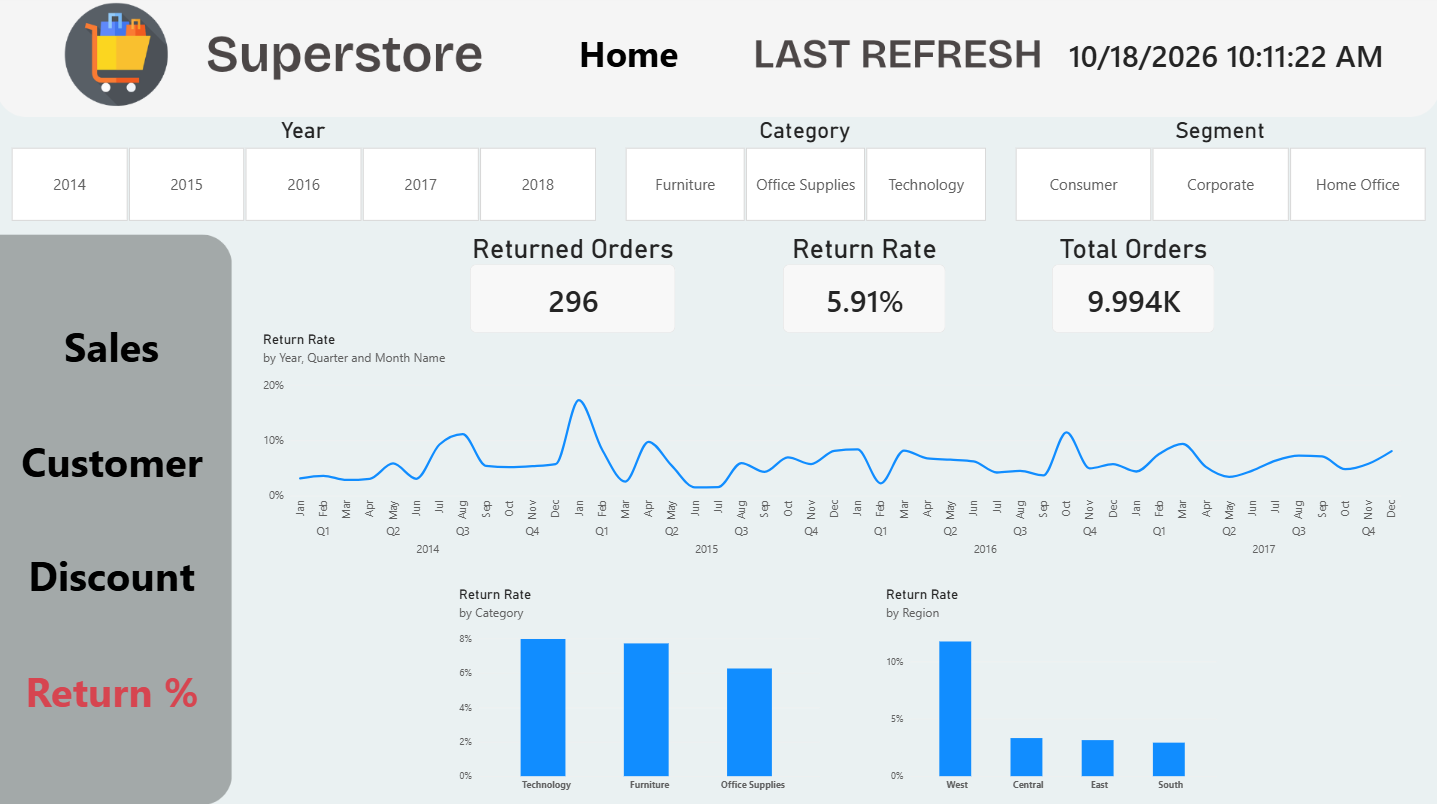

The dashboard page shown, as its layout file describes it:
{"tool":"powerbi","page":{"name":"Returns Analysis","canvas":[1920,1080],"ordinal":4},"visuals":[{"type":"cardVisual","title":"Returned Orders","fields":{"Data":["All Measures.Returned Orders"]},"box":[630.4,315.2,274,134.3],"z":0},{"type":"cardVisual","title":"Return Rate","fields":{"Data":["All Measures.Return Rate"]},"box":[1046.1,315.2,216.8,134.3],"z":1000},{"type":"cardVisual","title":"Total Orders","fields":{"Data":["Count(Fact Orders.Row ID)"]},"box":[1404.5,315.2,216.8,134.3],"z":2000},{"type":"lineChart","fields":{"Category":["Dim Date.Year","Dim Date.Quarter","Dim Date.Month Name"],"Y":["All Measures.Return Rate"]},"box":[339.2,433.6,1545.5,339.2],"z":3000},{"type":"columnChart","fields":{"Category":["Dim Product.Category"],"Y":["All Measures.Return Rate"]},"box":[599.9,772.8,512.1,307.2],"z":4000},{"type":"columnChart","fields":{"Y":["All Measures.Return Rate"],"Category":["Dim Location.Region"]},"box":[1167.8,772.8,472.2,307.2],"z":5000},{"type":"cardVisual","title":"Return Rate","fields":{"Data":["All Measures.LastRefresh"]},"box":[1352.1,13.3,567.9,130.3],"z":6000},{"type":"actionButton","title":"Sales","box":[75.8,405.7,155.6,122.4],"z":7000},{"type":"actionButton","title":"Sales","box":[30.6,710.2,246.1,123.7],"z":8000},{"type":"actionButton","title":"Sales","box":[21.3,558.6,266,122.4],"z":9000},{"type":"actionButton","title":"Sales","box":[26.6,864.5,255.4,122.4],"z":10000},{"type":"actionButton","title":"Sales","box":[755.5,17.3,171.6,122.4],"z":11000},{"type":"slicer","title":"Year","fields":{"Values":["Dim Date.Year"]},"box":[0,162.3,816.7,139.7],"z":14000},{"type":"slicer","title":"Segment","fields":{"Values":["Dim Customer.Segment"]},"box":[1334.8,162.3,585.2,139.7],"z":15000},{"type":"slicer","title":"Category","fields":{"Values":["Dim Product.Category"]},"box":[816.7,162.3,518.7,139.7],"z":16000}]}

Visuals, with their boxes in screenshot pixels (x1, y1, x2, y2), scaled from the page's 1920x1080 canvas onto the 1437x804 screenshot:
"Returned Orders" cardVisual: rect(472, 235, 677, 335)
"Return Rate" cardVisual: rect(783, 235, 945, 335)
"Total Orders" cardVisual: rect(1051, 235, 1213, 335)
lineChart - Dim Date.Year x Dim Date.Quarter: rect(254, 323, 1411, 575)
columnChart - Dim Product.Category x All Measures.Return Rate: rect(449, 575, 832, 803)
columnChart - All Measures.Return Rate x Dim Location.Region: rect(874, 575, 1227, 803)
"Return Rate" cardVisual: rect(1012, 10, 1436, 107)
"Sales" actionButton: rect(57, 302, 173, 393)
"Sales" actionButton: rect(23, 529, 207, 621)
"Sales" actionButton: rect(16, 416, 215, 507)
"Sales" actionButton: rect(20, 644, 211, 735)
"Sales" actionButton: rect(565, 13, 694, 104)
"Year" slicer: rect(0, 121, 611, 225)
"Segment" slicer: rect(999, 121, 1436, 225)
"Category" slicer: rect(611, 121, 999, 225)
